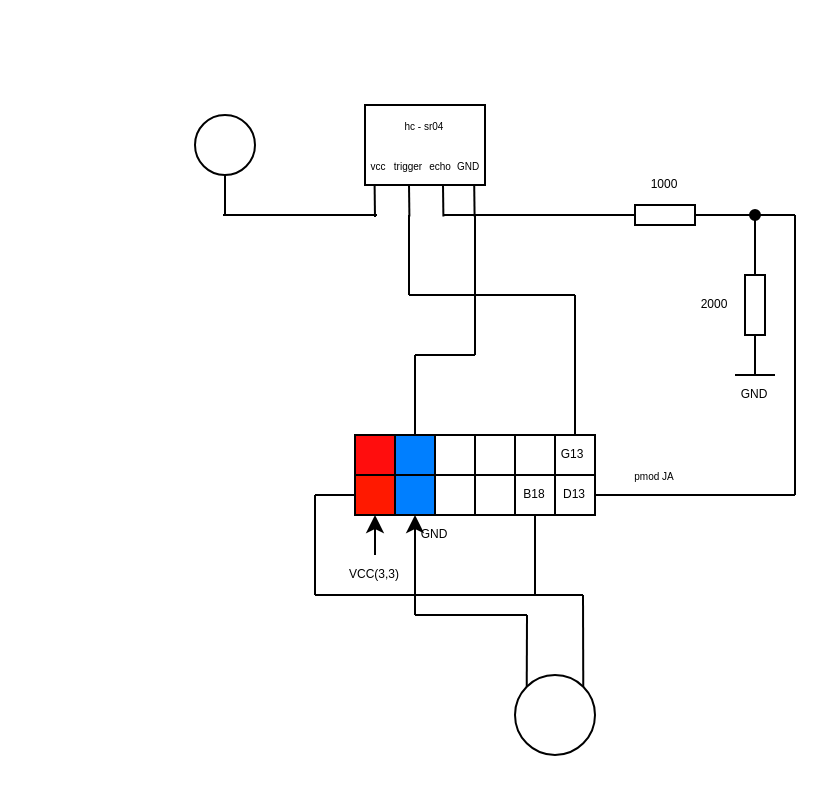
The diagram is 832 pixels wide and 790 high, and some of its shapes have lost their labels. Each missing label, with the centre of its shape:
+5V: (224,144)
buzzer: (554,714)
